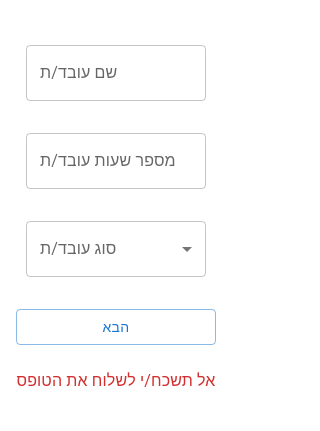
Test: shows error when only the name and hours fields are filled
In the field labelled "שם עובד/ת": (116,73) [26,45,206,101], type "John Doe"
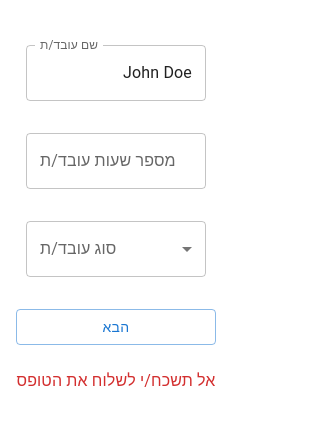
In the number field labelled "מספר שעות עובד/ת": (116,161) [26,133,206,189], type "5"
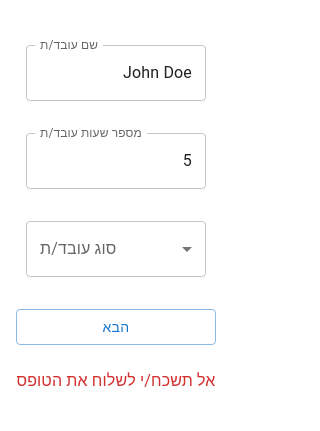
Click the button "הבא": (116,327) [16,309,216,345]
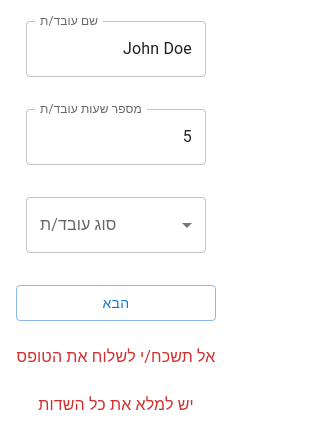
expect the text "יש למלא את כל השדות" is shown: met, box [38,395,194,414]
